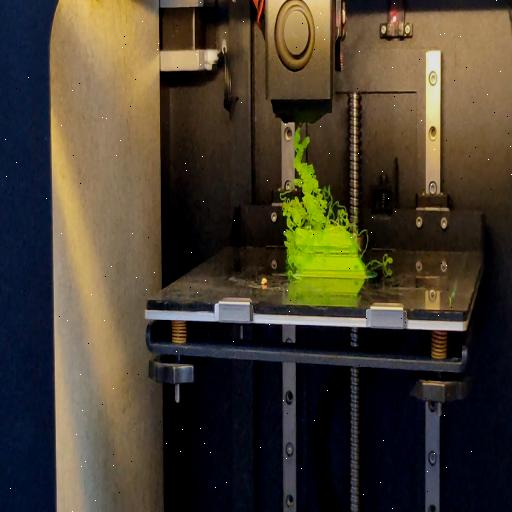spaghetti: (282, 128, 358, 232), (282, 230, 298, 276), (364, 253, 396, 271), (359, 224, 370, 256)
